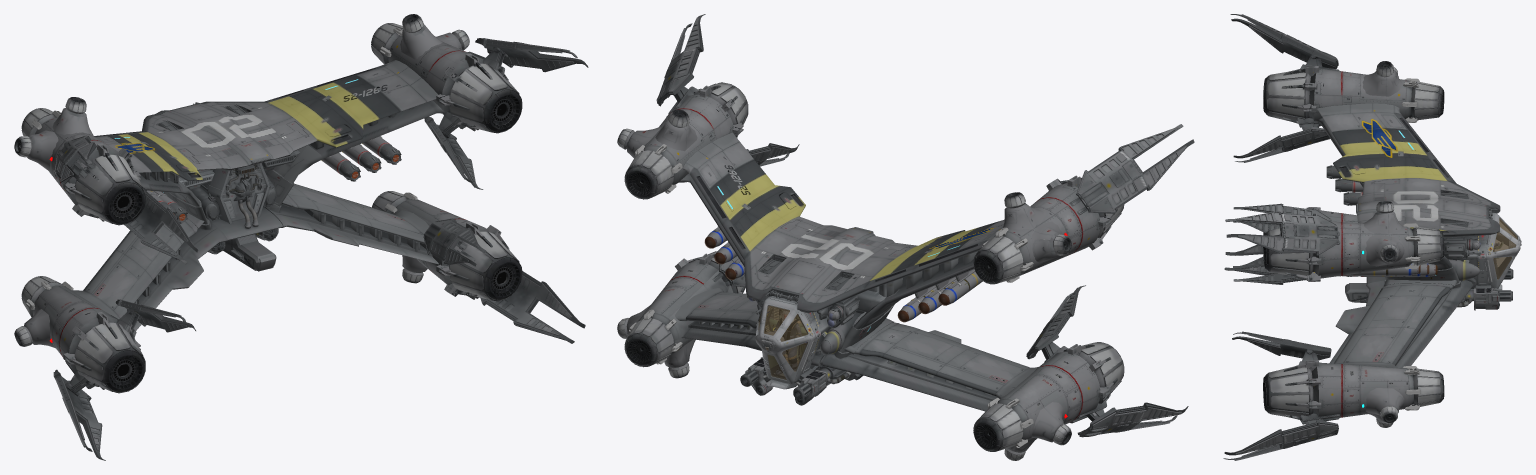
File: nova.glb
3 renders of one model, left to right at view 1: azimuth 30°, elevation 25°; view 2: azimuth 150°, elevation 25°; view 3: azimuth 270°, elevation 25°, orthographic. The views are drawn at different scales.
Parts seen in each view (by area): view 1: Fuselage_Starfury_0, Engine Brown_Engine_0, Engine (1) (2)_Starfury_0, Engine Tine Outboard 4_Starfury_0, Missiles_Starfury_0, Fuselage_Fuse_0, Engine Tine Inboard 1_Starfury_0, Engine Tine Outboard 2_Starfury_0, Engine Tine Inboard 4_Starfury_0, Engine Tine Outboard 3_Starfury_0, Engine Tine Outboard 1_Starfury_0, Engine Tine Inboard 3_Starfury_0 (+2 smaller); view 2: Fuselage_Starfury_0, Engine (1) (2)_Starfury_0, Engine Brown_Engine_0, Engine Tine Outboard 1_Starfury_0, Canopy_Fuse_0, Missiles_Starfury_0, Engine Tine Outboard 3_Starfury_0, Engine Tine Outboard 2_Starfury_0, Canopy Glass_Glass_0, Fuselage_Fuse_0, Engine (1) (2)_ALUM_0, Engine Tine Inboard 3_Starfury_0 (+5 smaller); view 3: Fuselage_Starfury_0, Engine (1) (2)_Starfury_0, Engine Brown_Engine_0, Engine Tine Outboard 2_Starfury_0, Engine Tine Outboard 4_Starfury_0, Engine Tine Outboard 1_Starfury_0, Missiles_Starfury_0, Engine Tine Inboard 1_Starfury_0, Engine Tine Inboard 4_Starfury_0, Canopy_Fuse_0, Engine Tine Inboard 3_Starfury_0, Engine (1) (2)_ALUM_0 (+5 smaller).
Boxes of the visible parts, box(x1,y1,x2,y2) form: Fuselage_Starfury_0: box(72, 60, 444, 330); Engine Brown_Engine_0: box(14, 14, 522, 393); Engine (1) (2)_Starfury_0: box(24, 24, 509, 393); Engine Tine Outboard 4_Starfury_0: box(480, 271, 585, 343); Missiles_Starfury_0: box(150, 136, 401, 223); Fuselage_Fuse_0: box(178, 162, 269, 223); Engine Tine Inboard 1_Starfury_0: box(124, 188, 198, 264); Engine Tine Outboard 2_Starfury_0: box(475, 38, 588, 72); Engine Tine Inboard 4_Starfury_0: box(423, 218, 486, 266); Engine Tine Outboard 3_Starfury_0: box(53, 369, 105, 460); Engine Tine Outboard 1_Starfury_0: box(54, 135, 96, 184); Engine Tine Inboard 3_Starfury_0: box(115, 299, 195, 332); Fuselage_Starfury_0: box(675, 132, 1038, 411); Engine (1) (2)_Starfury_0: box(627, 85, 1117, 452); Engine Brown_Engine_0: box(617, 82, 1124, 460); Engine Tine Outboard 1_Starfury_0: box(1076, 124, 1194, 213); Canopy_Fuse_0: box(755, 297, 815, 383); Missiles_Starfury_0: box(705, 230, 982, 322); Engine Tine Outboard 3_Starfury_0: box(1077, 402, 1188, 437); Engine Tine Outboard 2_Starfury_0: box(656, 14, 705, 106); Canopy Glass_Glass_0: box(758, 305, 807, 379); Fuselage_Fuse_0: box(768, 283, 886, 389); Engine (1) (2)_ALUM_0: box(629, 144, 1033, 448); Engine Tine Inboard 3_Starfury_0: box(1026, 285, 1085, 359); Fuselage_Starfury_0: box(1316, 103, 1513, 367); Engine (1) (2)_Starfury_0: box(1281, 56, 1417, 424); Engine Brown_Engine_0: box(1263, 61, 1444, 427); Engine Tine Outboard 2_Starfury_0: box(1225, 211, 1338, 255); Engine Tine Outboard 4_Starfury_0: box(1223, 419, 1338, 460); Engine Tine Outboard 1_Starfury_0: box(1230, 14, 1338, 68); Missiles_Starfury_0: box(1326, 165, 1436, 276); Engine Tine Inboard 1_Starfury_0: box(1233, 126, 1330, 162); Engine Tine Inboard 4_Starfury_0: box(1232, 331, 1331, 360); Canopy_Fuse_0: box(1486, 212, 1521, 288); Engine Tine Inboard 3_Starfury_0: box(1233, 203, 1331, 233); Engine (1) (2)_ALUM_0: box(1402, 78, 1420, 410).
Size of the model in its own units: 6.6 by 3.72 by 3.97.
Materials: 18 (6 with a texture image).
